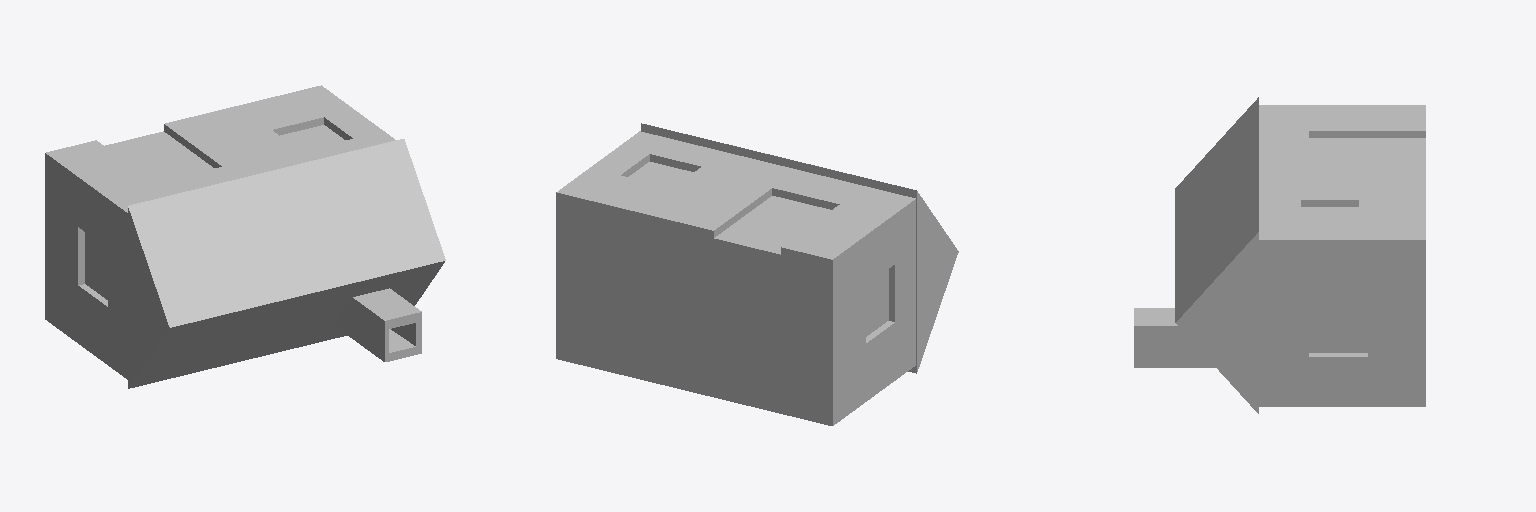
File: house_tinker.obj
3 renders of one model, left to right at view 1: azimuth 30°, elevation 25°; view 2: azimuth 150°, elevation 25°; view 3: azimuth 270°, elevation 25°, orthographic.
Visible parts, largest first — view 1: obj_0; view 2: obj_0; view 3: obj_0.
Boxes of the visible parts, x1=… form: obj_0: x1=45, y1=85, x2=445, y2=388; obj_0: x1=556, y1=123, x2=958, y2=425; obj_0: x1=1134, y1=97, x2=1425, y2=413.
Size of the model in its own units: 316 by 200 by 289.